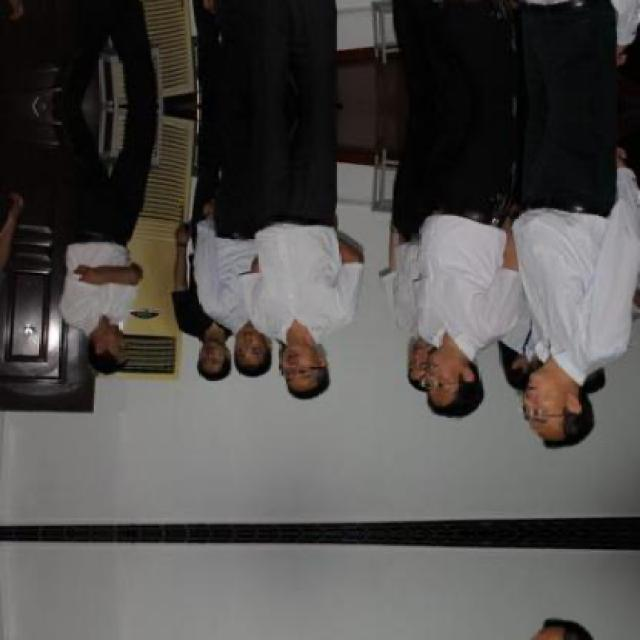sin casco: (494, 324, 610, 460), (402, 324, 522, 431), (275, 312, 382, 418), (86, 304, 154, 377), (213, 304, 274, 381), (184, 320, 241, 394)
